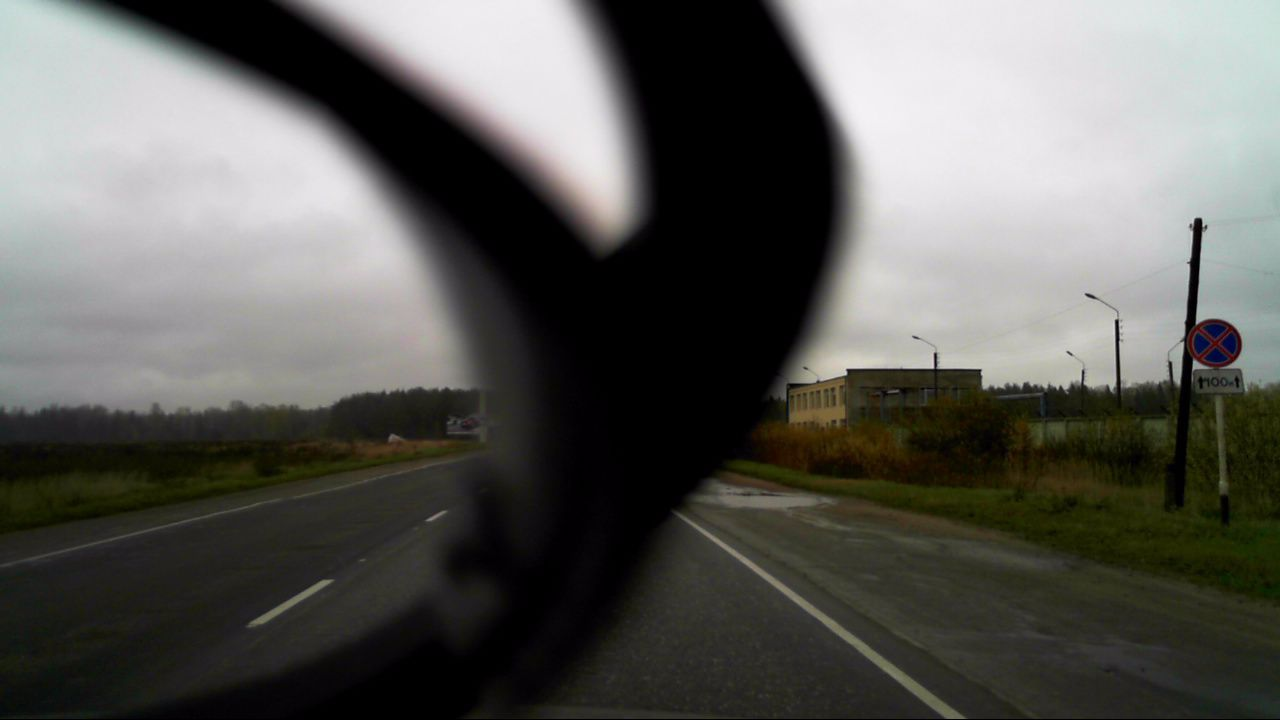No Parking: (1186, 319, 1242, 367)
